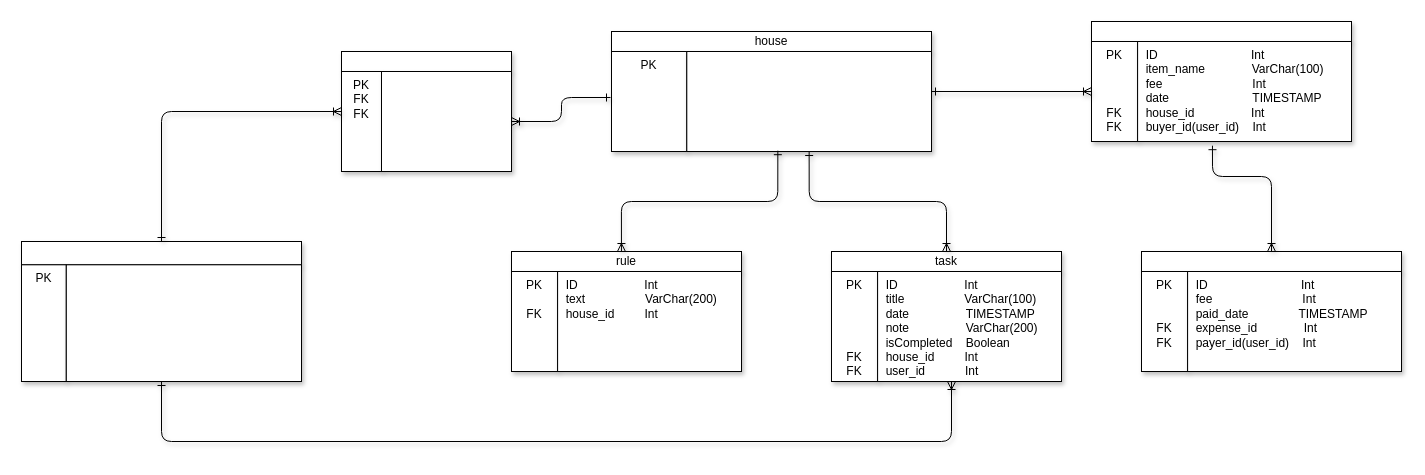
Some shapes in this 1425 by 475 pixel diagram are drawn without their labels. Here are the shapes that lost their labels. From the top down, the centre of each, then its label:
(x=1222, y=32): expense
(x=427, y=62): user_house
(x=447, y=122): ID Int user_id Int house_id Int isAdmin Boolean
(x=810, y=102): ID Int name VarChart(100) is_expense_per_time Boolean
(x=162, y=254): User
(x=1272, y=262): payment
(x=184, y=324): ID Int name VarChar(100) email VarChar(100) hashed_password VarChar() icon Enum
